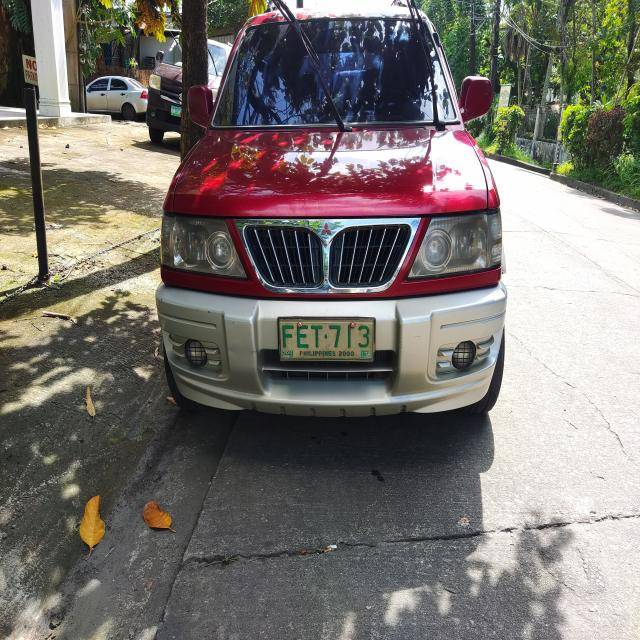plate: (277, 316, 377, 362)
